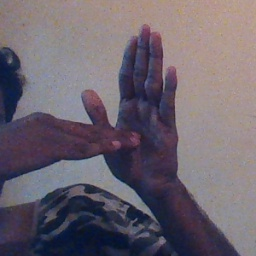Z: (58, 20, 181, 195)
